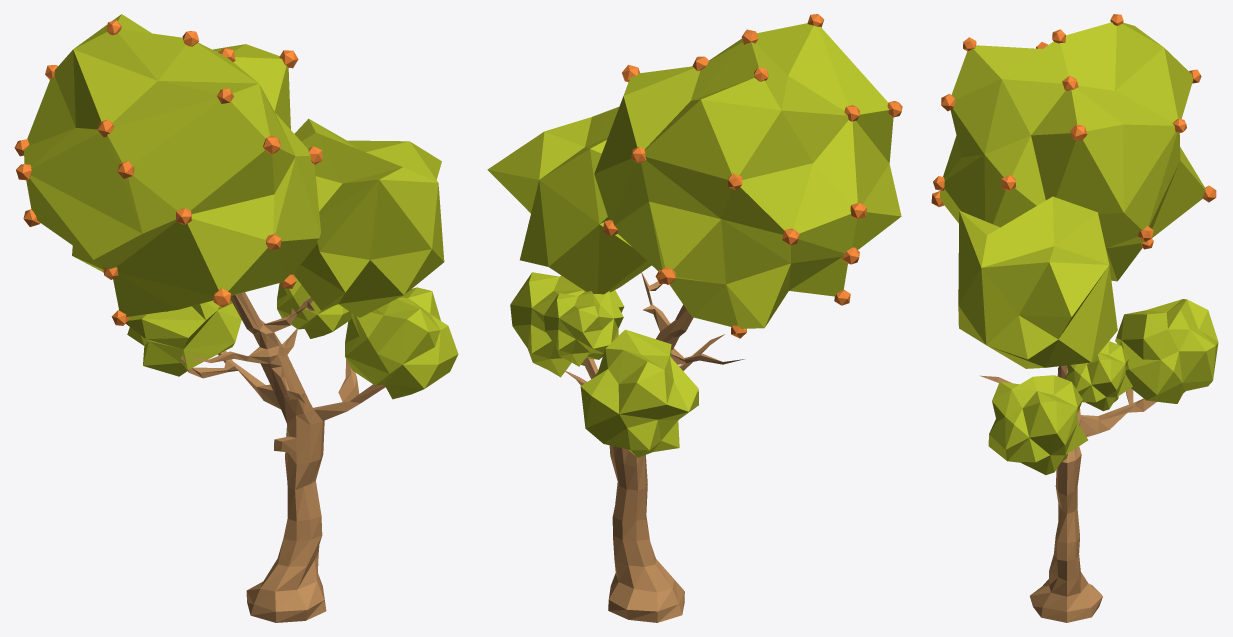
Rendered from tree4.fbx.
3 views of the same model, side by side, from view 1: azimuth 30°, elevation 25°; view 2: azimuth 150°, elevation 25°; view 3: azimuth 270°, elevation 25° (orthographic). The views are drawn at different scales.
Parts seen in each view (by area): view 1: Leaves_4, Leaves_5, Trunk, Leaves_3, Leaves, Fruits, Leaves_2; view 2: Leaves_4, Leaves_5, Leaves, Trunk, Leaves_2, Leaves_3, Fruits; view 3: Leaves_4, Leaves_5, Leaves, Leaves_3, Trunk, Leaves_2, Fruits.
Part boxes in pixels (<box>): Leaves_4: <box>24,14,320,316</box>; Leaves_5: <box>293,118,444,317</box>; Trunk: <box>181,292,385,622</box>; Leaves_3: <box>345,287,458,399</box>; Leaves: <box>125,300,241,376</box>; Fruits: <box>14,20,322,325</box>; Leaves_2: <box>277,274,351,338</box>; Leaves_4: <box>594,23,901,328</box>; Leaves_5: <box>487,107,651,294</box>; Leaves: <box>580,329,698,457</box>; Trunk: <box>562,271,744,622</box>; Leaves_2: <box>543,291,623,366</box>; Leaves_3: <box>510,272,624,377</box>; Fruits: <box>602,14,902,338</box>; Leaves_4: <box>940,22,1205,281</box>; Leaves_5: <box>958,196,1117,368</box>; Leaves: <box>1115,299,1218,403</box>; Leaves_3: <box>988,375,1087,474</box>; Trunk: <box>980,365,1156,622</box>; Leaves_2: <box>1065,341,1132,411</box>; Fruits: <box>931,14,1216,249</box>.
Size of the model in its own units: 253 by 361 by 176.
